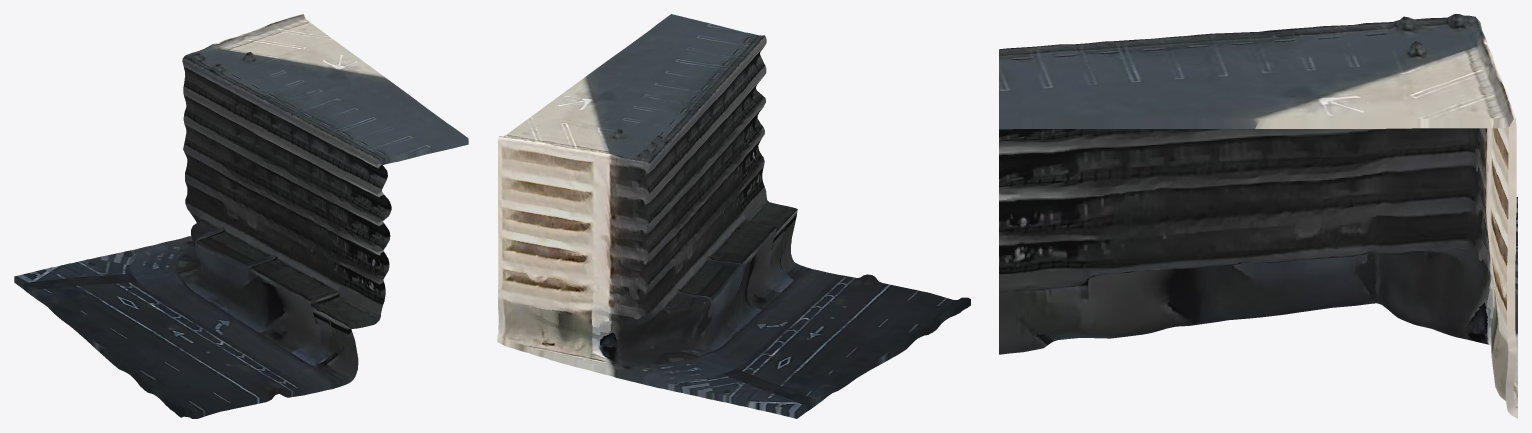
The model's file is z20-167752-405242-h0-yup-uvflip-v3-world.glb.
3 views of the same model, side by side, from view 1: azimuth 30°, elevation 25°; view 2: azimuth 150°, elevation 25°; view 3: azimuth 270°, elevation 25° (orthographic). The views are drawn at different scales.
Size of the model in its own units: 30.2 by 22.68 by 30.32.
1 material, 1 textured.
